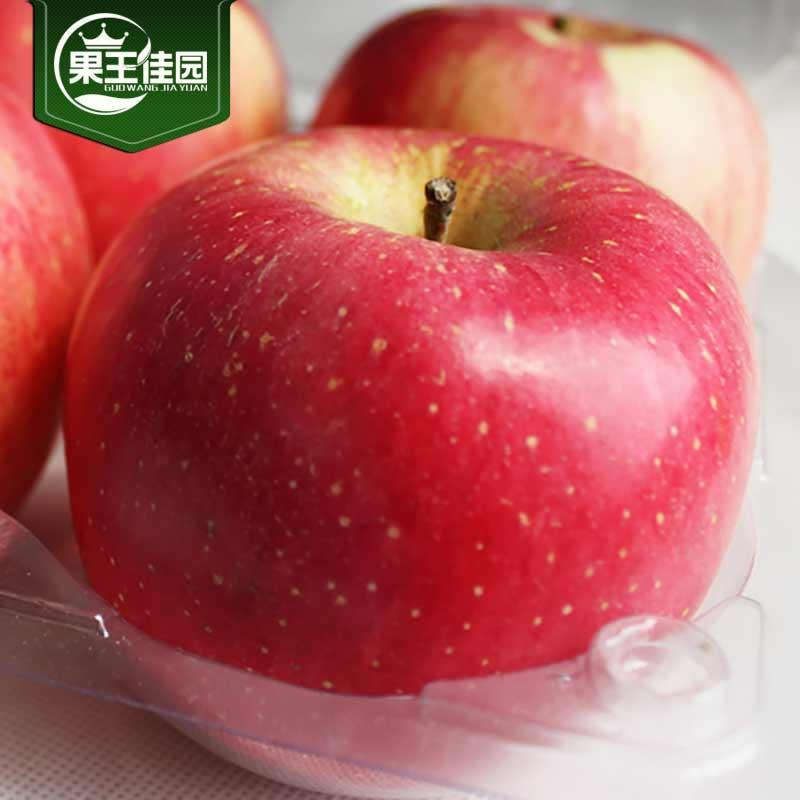apple: (40, 88, 764, 730)
